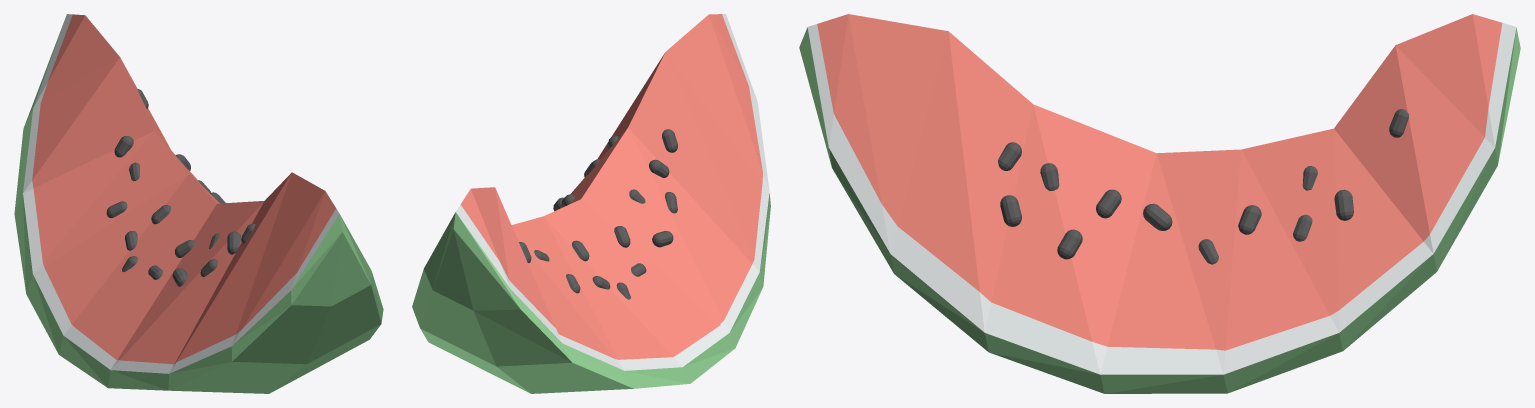
The model's file is melon.gltf.
3 views of the same model, side by side, from view 1: azimuth 30°, elevation 25°; view 2: azimuth 150°, elevation 25°; view 3: azimuth 270°, elevation 25° (orthographic). The views are drawn at different scales.
Parts seen in each view (by area): view 1: Node; view 2: Node; view 3: Node.
Part boxes in pixels (x1=…): Node: x1=14, y1=14, x2=383, y2=393; Node: x1=412, y1=14, x2=770, y2=393; Node: x1=799, y1=14, x2=1520, y2=393.
Bounding box in the file's own units: 0.4652 × 0.5047 × 0.9362.
